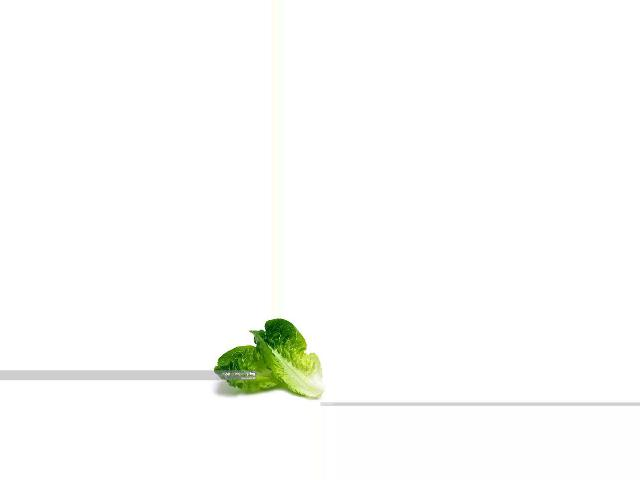lettuce: (211, 318, 326, 394)
